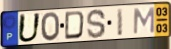D: (63, 10, 86, 41)
I: (116, 7, 124, 38)
M: (132, 7, 156, 36)
O: (40, 11, 61, 43)
S: (86, 8, 107, 40)
U: (17, 13, 42, 44)
